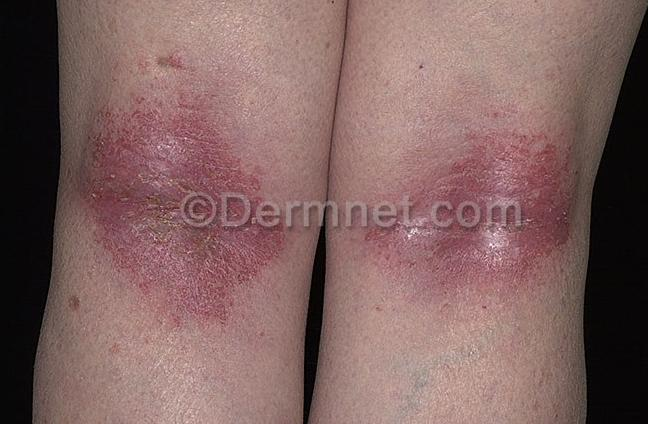eritema 3: (88, 77, 281, 327), (366, 120, 574, 278)
exudacion 2: (112, 155, 214, 250)
